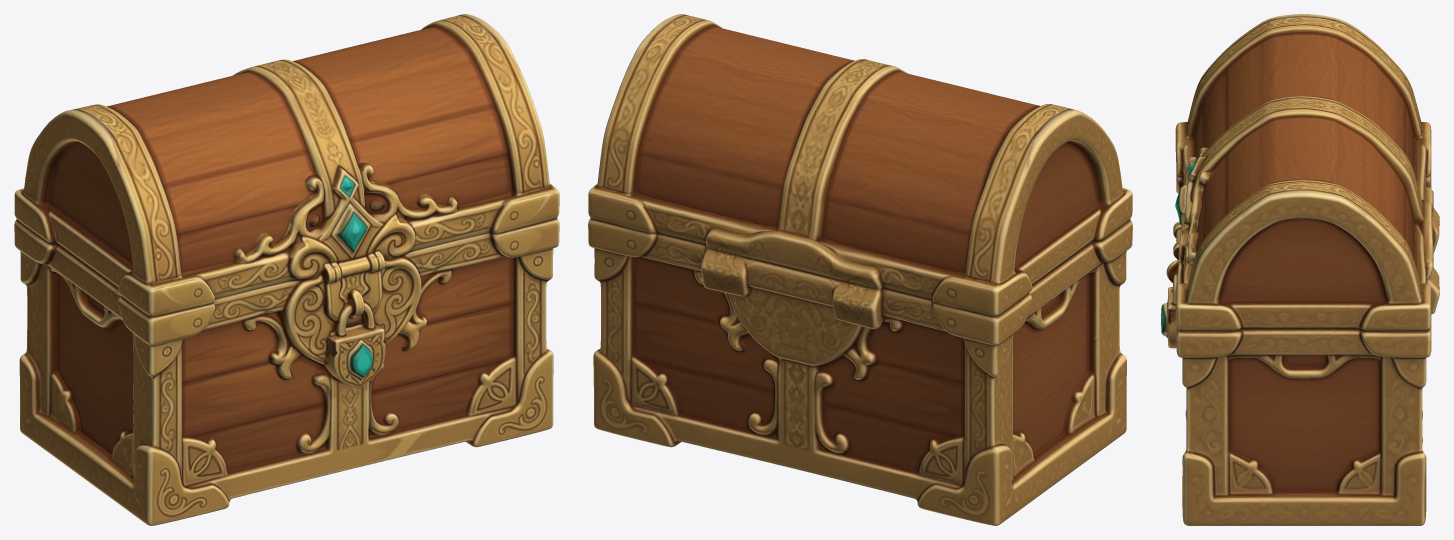
The model's file is Treasure_Ches.fbx.
The picture shows the model from 3 angles, left to right: view 1: azimuth 30°, elevation 25°; view 2: azimuth 150°, elevation 25°; view 3: azimuth 270°, elevation 25°; orthographic projection. The views are drawn at different scales.
Visible parts, largest first — view 1: Mesh_0; view 2: Mesh_0; view 3: Mesh_0.
Boxes of the visible parts, x1,y1,x2,y2 form: Mesh_0: (14,14,559,525); Mesh_0: (588,14,1132,525); Mesh_0: (1161,14,1439,525).
Bounding box in the file's own units: 190 × 159 × 120.
1 material, 1 textured.
